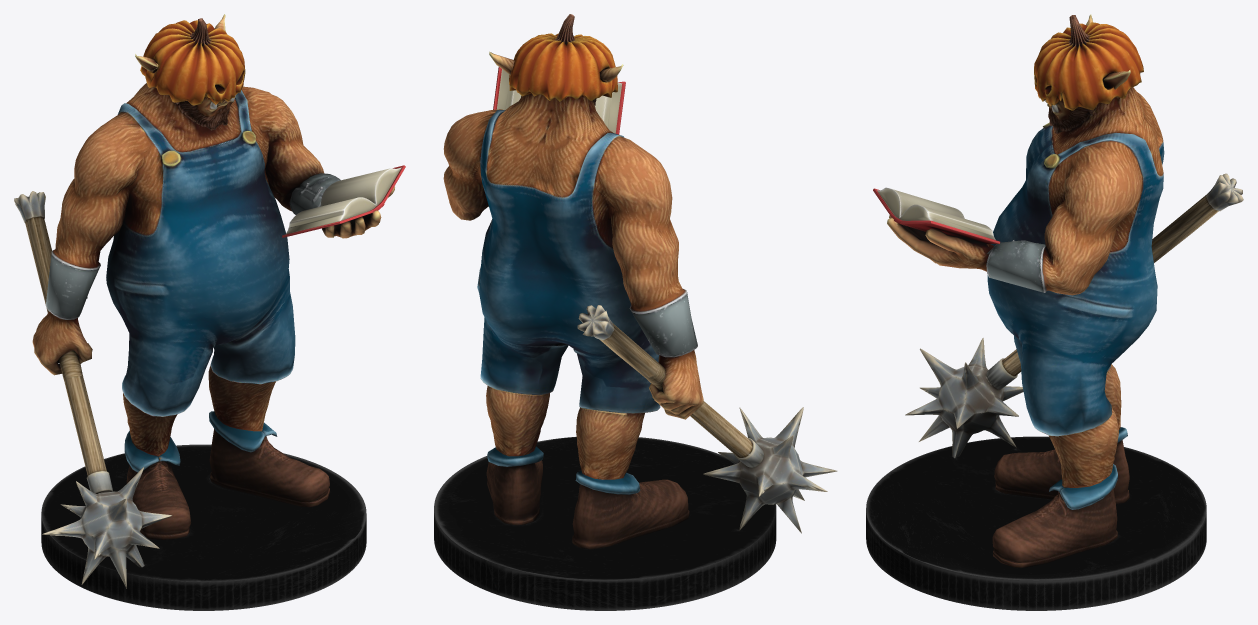
File: MZ4250 - Burly the Bugbear.glb
3 views of the same model, side by side, from view 1: azimuth 30°, elevation 25°; view 2: azimuth 150°, elevation 25°; view 3: azimuth 270°, elevation 25° (orthographic). The views are drawn at different scales.
Visible parts, largest first — view 1: body_low.001, base_low.001, morn_low.001, pump_low.001, book_low.001; view 2: body_low.001, base_low.001, morn_low.001, pump_low.001, book_low.001; view 3: body_low.001, base_low.001, morn_low.001, pump_low.001, book_low.001.
Boxes of the visible parts, x1=… form: body_low.001: x1=32, y1=14, x2=394, y2=539; base_low.001: x1=41, y1=444, x2=366, y2=610; morn_low.001: x1=14, y1=191, x2=172, y2=588; pump_low.001: x1=140, y1=18, x2=245, y2=105; book_low.001: x1=282, y1=165, x2=405, y2=237; body_low.001: x1=443, y1=51, x2=703, y2=549; base_low.001: x1=434, y1=436, x2=776, y2=610; morn_low.001: x1=577, y1=305, x2=837, y2=533; pump_low.001: x1=509, y1=14, x2=617, y2=101; book_low.001: x1=493, y1=67, x2=625, y2=134; body_low.001: x1=887, y1=14, x2=1164, y2=567; base_low.001: x1=866, y1=436, x2=1206, y2=610; morn_low.001: x1=905, y1=173, x2=1243, y2=458; pump_low.001: x1=1034, y1=15, x2=1143, y2=110; book_low.001: x1=873, y1=187, x2=1000, y2=243.
Size of the model in its own units: 3.56 by 5.1 by 3.28.
Materials: 1 (1 with a texture image).
